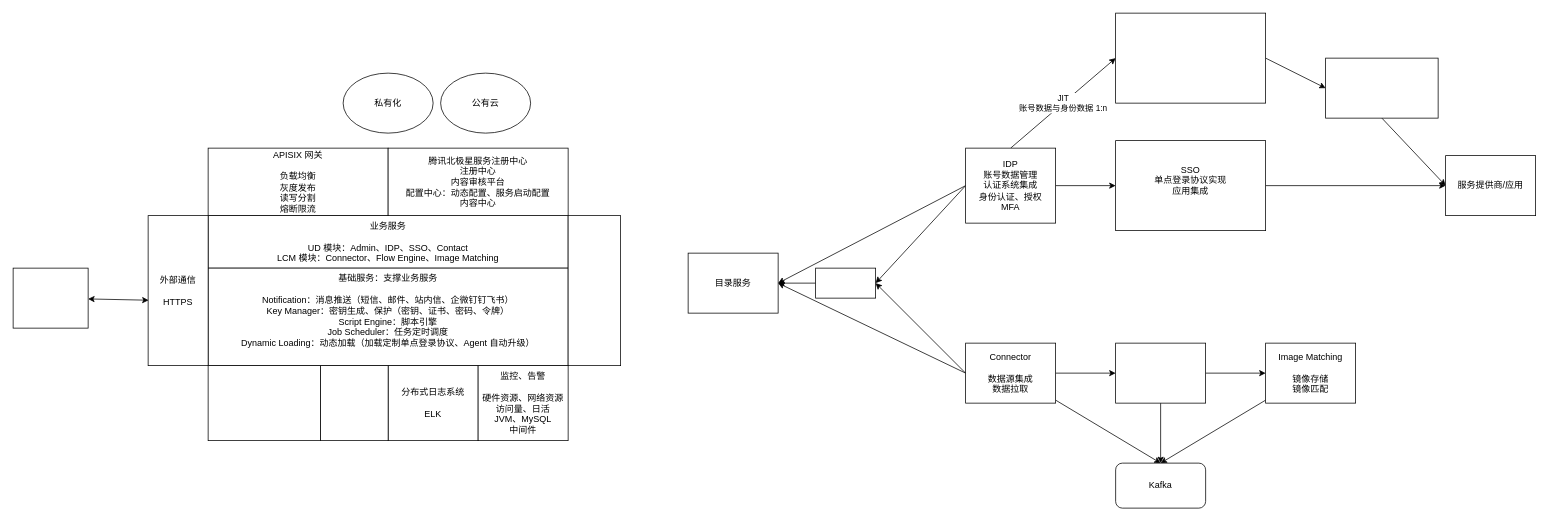
Image size: 1549x521. Some labels were removed from this diagram. The box of each missing label's shape, as (x1, y1, x2, y2) in pixels:
Admin 身份、组织数据管理 角色、权限管理 接口权限、应用权限分配 设备管理 安全策略：时间/地理/IP/黑白名单 安全审计 自定义域名: (1115, 12, 1266, 103)
Agent 独立公网 IP: (815, 267, 876, 298)
Contact 身份、组织数据的读取 API RESTful、SCIM、LDAP: (1325, 57, 1438, 118)
Flow Engine 流式数据处理引擎: (1115, 342, 1206, 403)
数据层 MySQL：分库、VIP Redis：锁、缓存、频控 ES：搜索、统计总数 Vault：供 KMS 使用 腾讯云对象存储：文件图片: (207, 365, 321, 441)
服务间通信 RPC: (567, 215, 621, 366)
消息组件 Kafka Zookeeper: (320, 365, 388, 441)
身份提供商/目录 服务提供商/应用: (12, 267, 88, 328)
